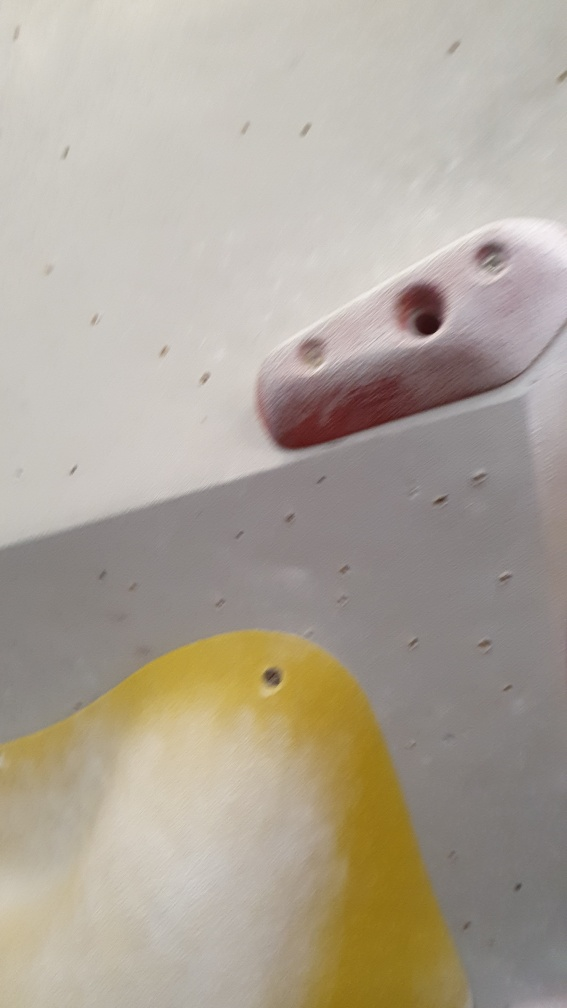Pinch: (253, 218, 567, 451)
